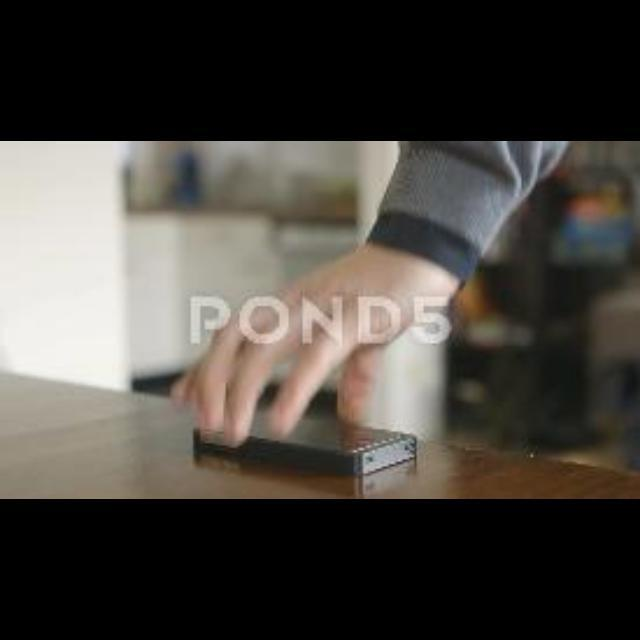Phone: (178, 393, 428, 467)
